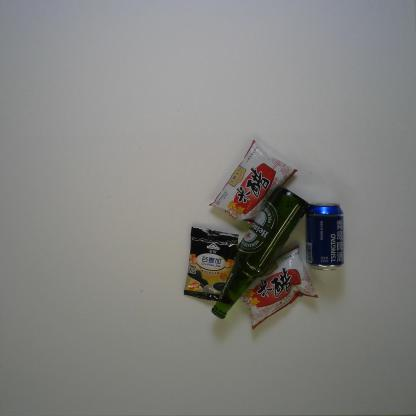Alcohol: (210, 183, 308, 323), (304, 202, 345, 272)
Instant Drink: (183, 226, 240, 302)
Seasoner: (208, 139, 298, 226), (239, 244, 319, 331)
